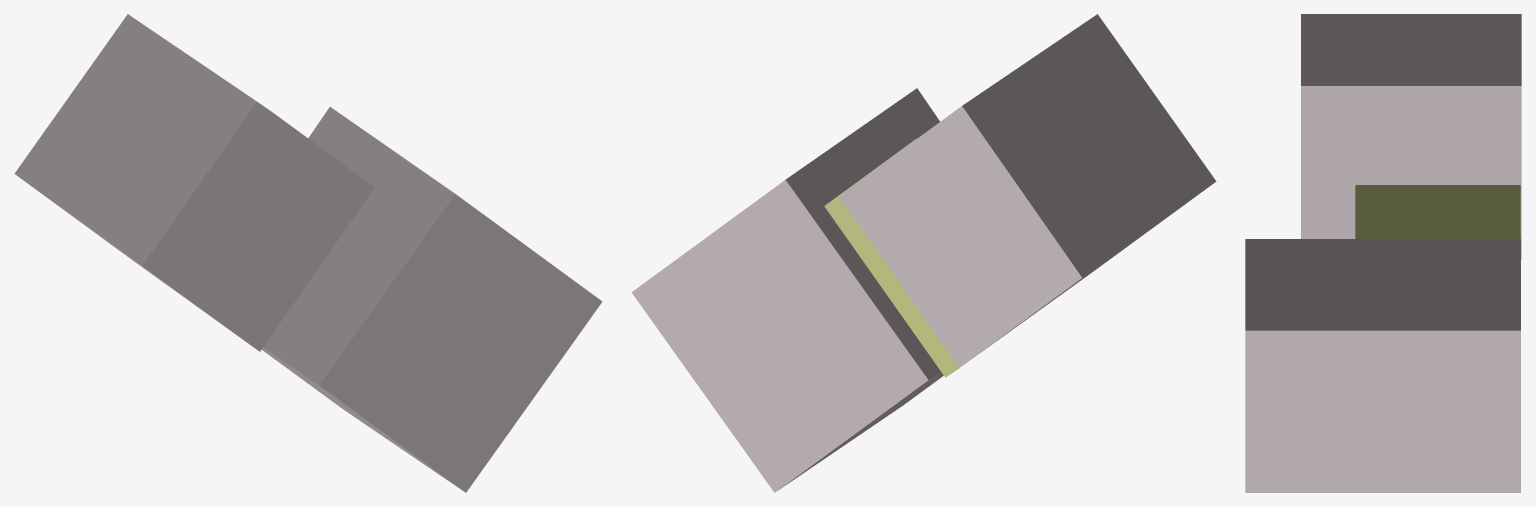
3 renders of one model, left to right at view 1: azimuth 30°, elevation 25°; view 2: azimuth 150°, elevation 25°; view 3: azimuth 270°, elevation 25°, orthographic. The views are drawn at different scales.
Visible parts, largest first — view 1: 0_2_3_2_2_0_2_2_3_0; view 2: 0_2_3_2_2_0_2_2_3_0; view 3: 0_2_3_2_2_0_2_2_3_0.
Part boxes in pixels (x1=…): 0_2_3_2_2_0_2_2_3_0: x1=14, y1=14, x2=602, y2=492; 0_2_3_2_2_0_2_2_3_0: x1=631, y1=14, x2=1216, y2=492; 0_2_3_2_2_0_2_2_3_0: x1=1245, y1=14, x2=1521, y2=492.
Size of the model in its own units: 25.98 by 23.52 by 15.03.
